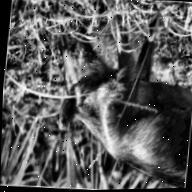boar: (42, 13, 192, 191)
